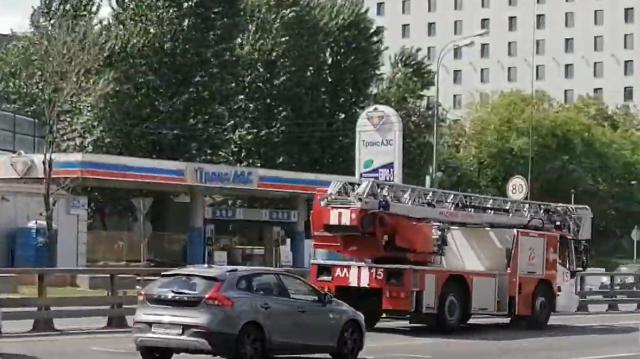fire fighting vehicle: (316, 179, 589, 334)
non emergency car: (138, 265, 367, 359)
